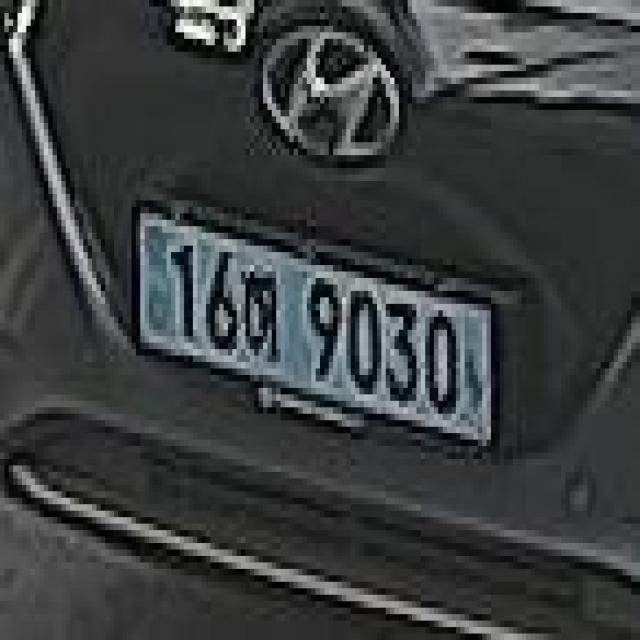EV_plate: (129, 184, 507, 466)
